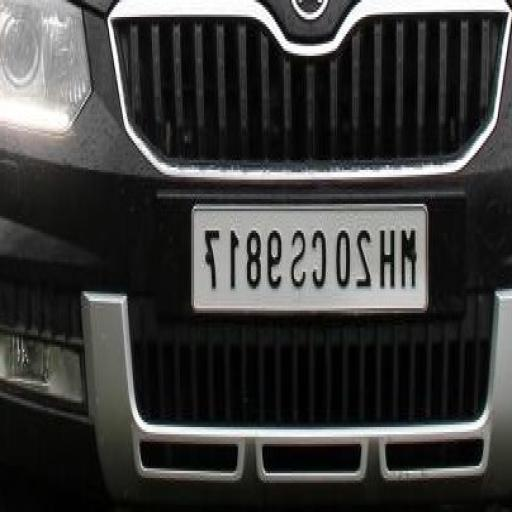License: (194, 204, 427, 308)
